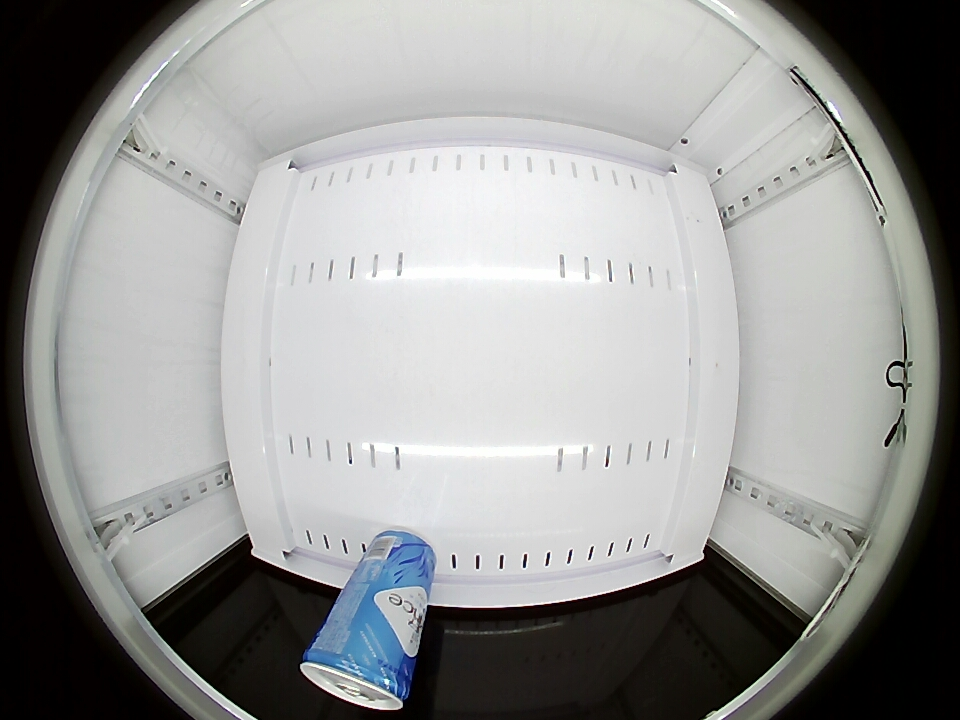qingdaowangzi-2: (301, 630, 415, 710)
